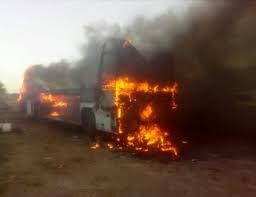fire: (102, 72, 182, 154), (41, 90, 69, 110)
